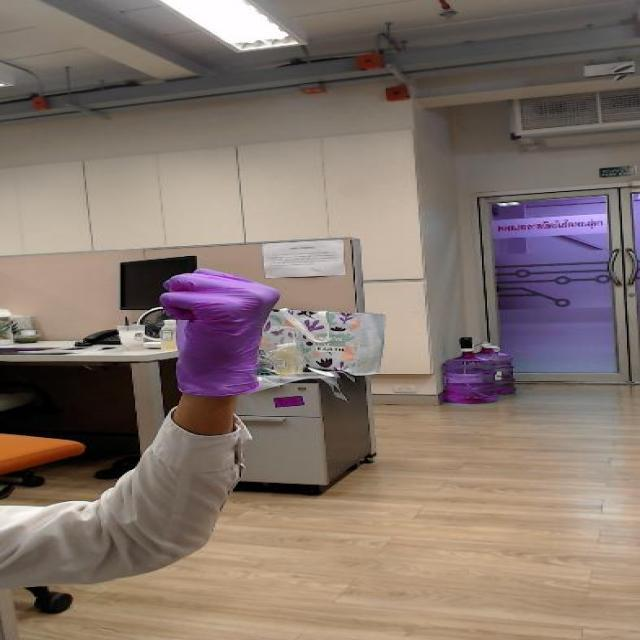gloved_hand: (135, 252, 292, 379)
